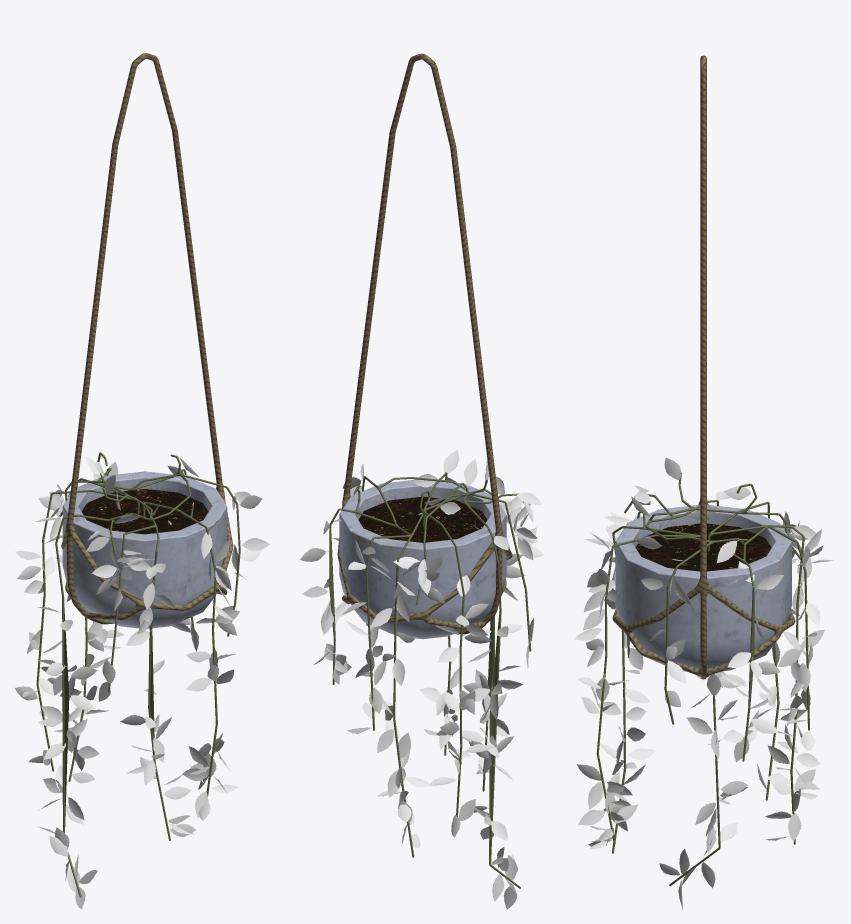
File: 920007_hanging plant.fbx
3 views of the same model, side by side, from view 1: azimuth 30°, elevation 25°; view 2: azimuth 150°, elevation 25°; view 3: azimuth 270°, elevation 25° (orthographic). The views are drawn at different scales.
Visible parts, largest first — view 1: Cylinder.001; view 2: Cylinder.001; view 3: Cylinder.001.
Boxes of the visible parts, x1,y1,x2,y2 form: Cylinder.001: (14,53,270,909); Cylinder.001: (300,53,544,909); Cylinder.001: (573,55,833,909).
Size of the model in its own units: 43.55 by 178 by 45.54.
